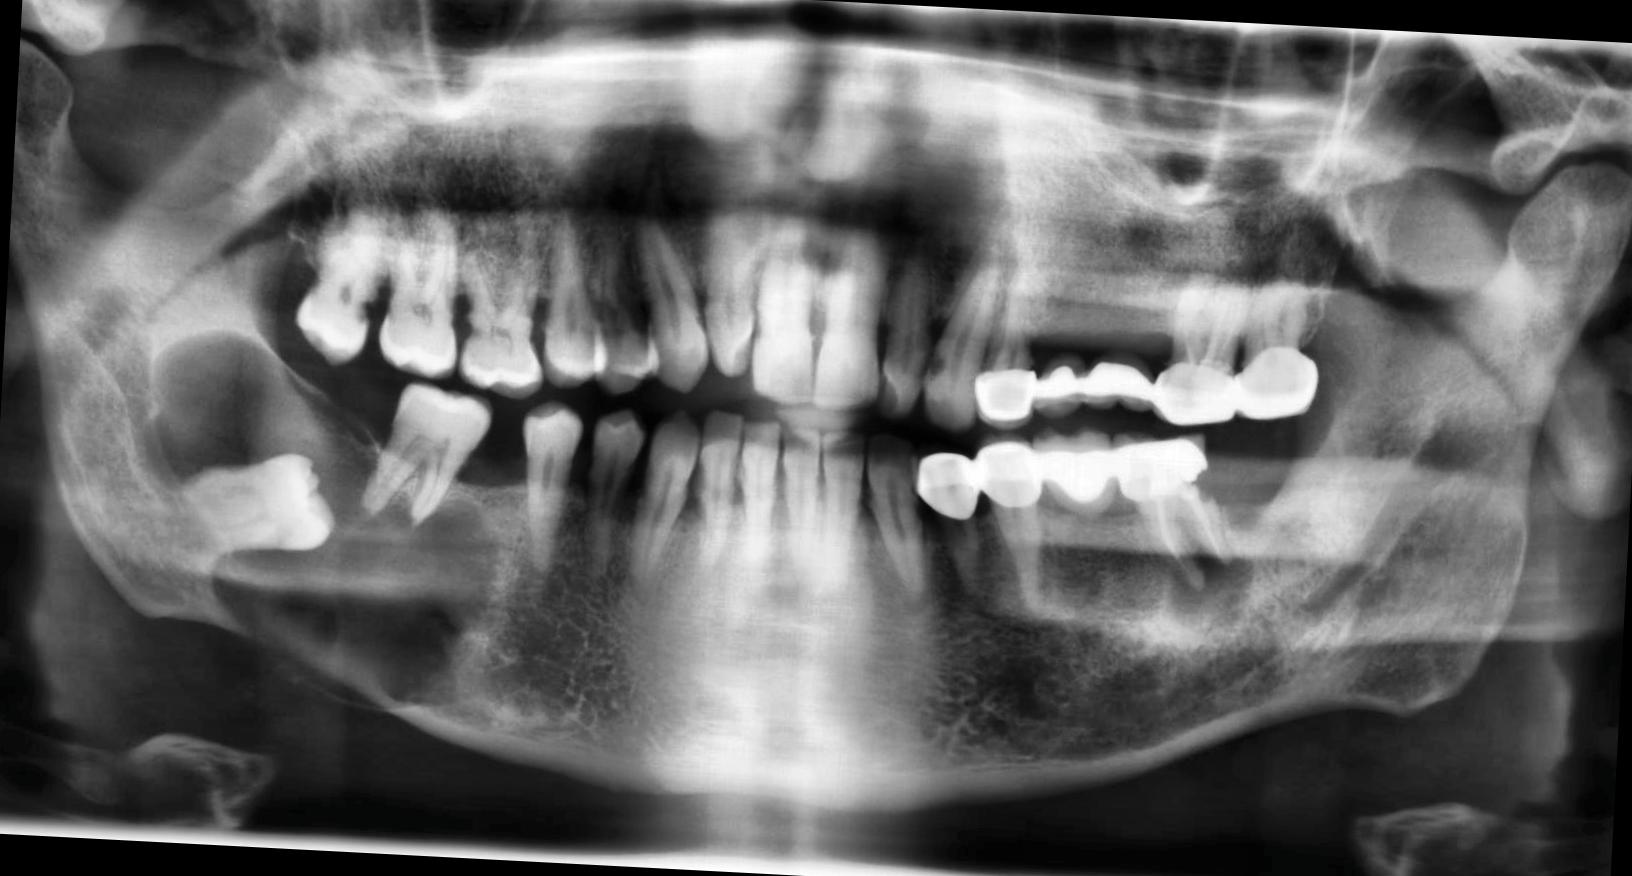okc: (124, 323, 514, 718)
radicular: (1164, 542, 1259, 639)
